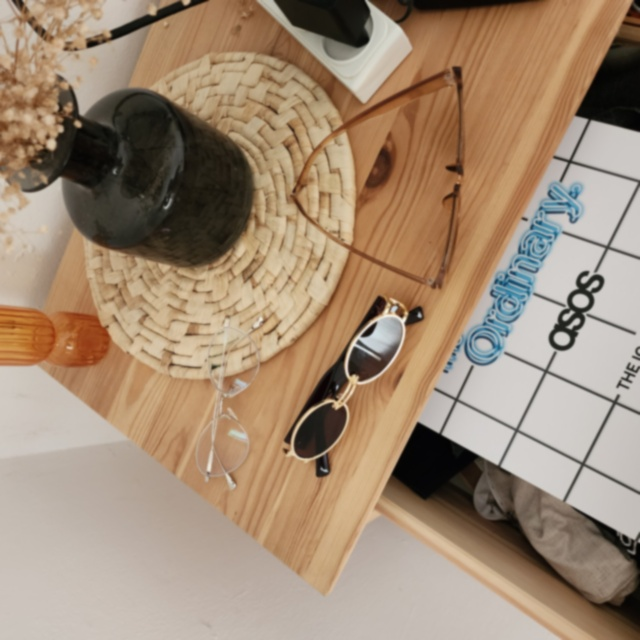glasses: (284, 63, 473, 291), (277, 294, 431, 480), (193, 315, 270, 492)
